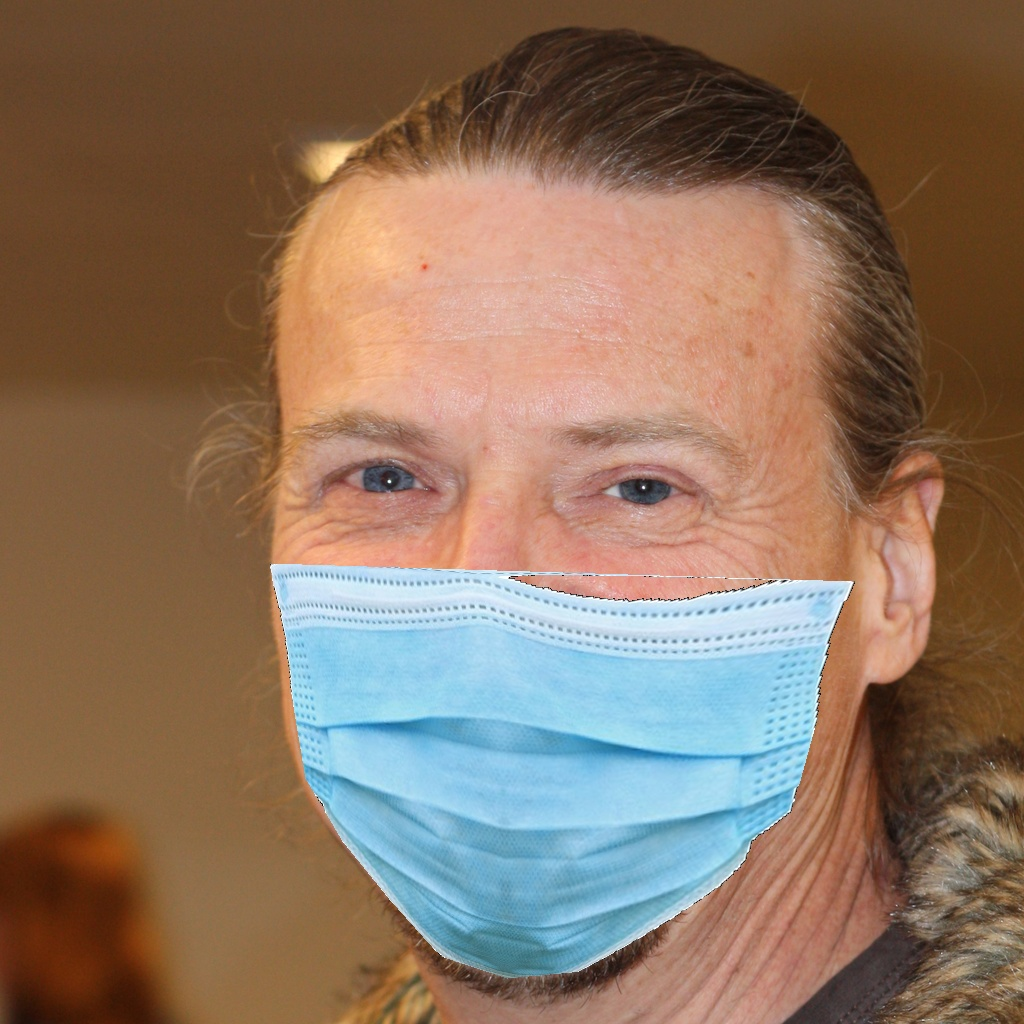Mask: (263, 356, 845, 981)
